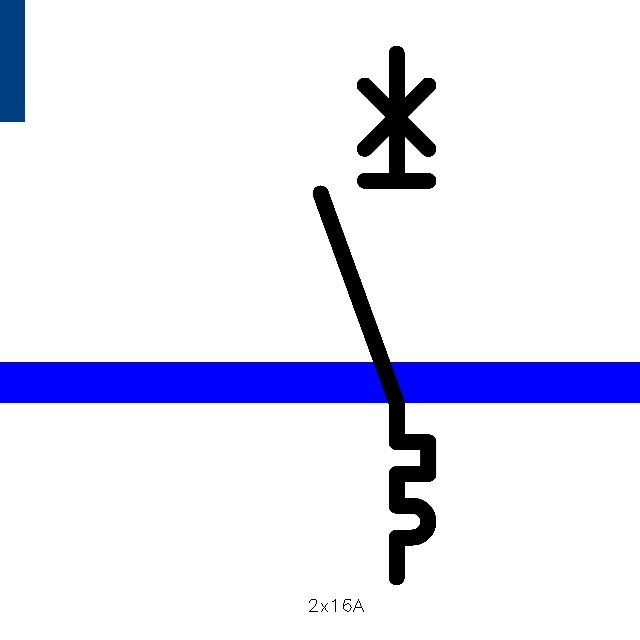interruptor_termomagnetico: (307, 40, 442, 591)
